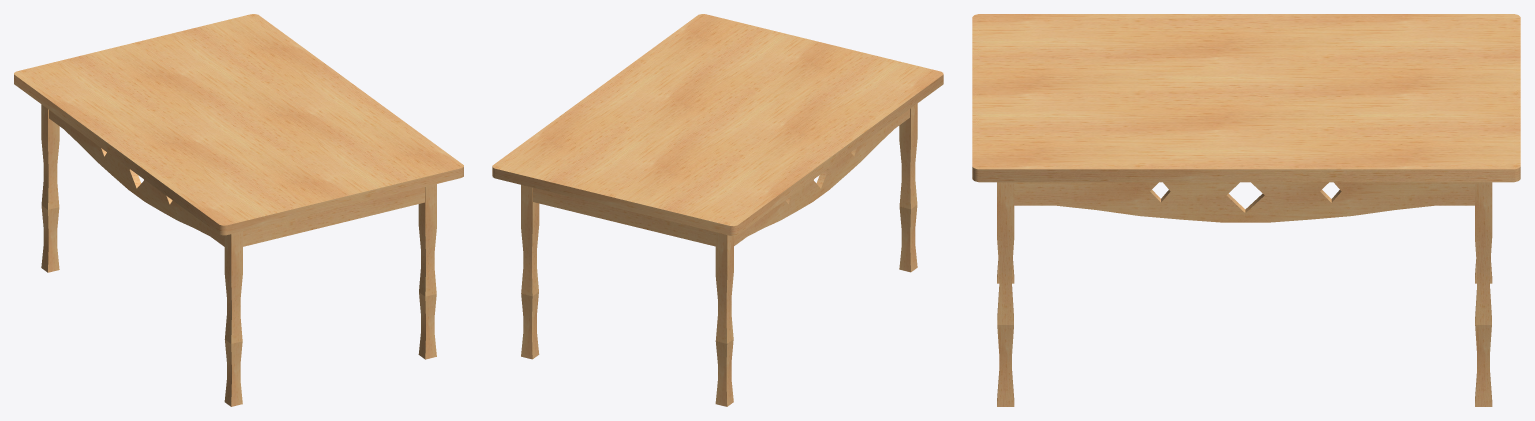
Rendered from table.obj.
3 views of the same model, side by side, from view 1: azimuth 30°, elevation 25°; view 2: azimuth 150°, elevation 25°; view 3: azimuth 270°, elevation 25° (orthographic). The views are drawn at different scales.
Parts seen in each view (by area): view 1: Cube_Cube.001, Cube.007_Cube.004, Cube.002, Cube.008_Cube.003, Cube.001_Cube.002, Cube.003_Cube.002; view 2: Cube_Cube.001, Cube.003_Cube.002, Cube.008_Cube.003, Cube.004_Cube.002, Cube.006_Cube.004, Cube.002; view 3: Cube_Cube.001, Cube.005_Cube.003, Cube.001_Cube.002, Cube.004_Cube.002.
Boxes of the visible parts, box(x1,y1,x2,y2) form: Cube_Cube.001: box(14, 14, 463, 235); Cube.007_Cube.004: box(243, 187, 424, 246); Cube.002: box(224, 231, 242, 406); Cube.008_Cube.003: box(49, 110, 224, 246); Cube.001_Cube.002: box(418, 184, 436, 359); Cube.003_Cube.002: box(41, 104, 59, 272); Cube_Cube.001: box(492, 14, 943, 235); Cube.003_Cube.002: box(715, 232, 733, 406); Cube.008_Cube.003: box(734, 109, 909, 245); Cube.004_Cube.002: box(521, 185, 539, 359); Cube.006_Cube.004: box(533, 188, 715, 246); Cube.002: box(899, 103, 917, 272); Cube_Cube.001: box(972, 14, 1520, 182); Cube.005_Cube.003: box(1014, 182, 1474, 222); Cube.001_Cube.002: box(997, 182, 1014, 406); Cube.004_Cube.002: box(1475, 182, 1492, 406).
Bounding box in the file's own units: 2 × 1.5 × 2.98.
Materials: 1 (1 with a texture image).
